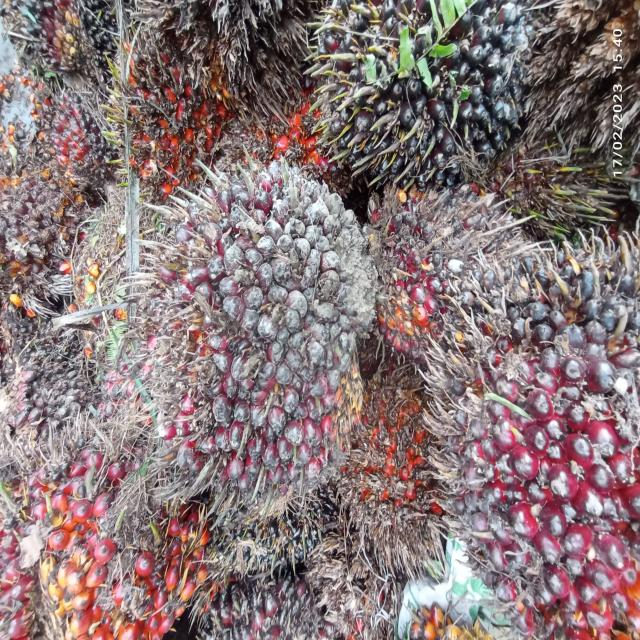fraksi 00: (294, 0, 539, 174), (1, 296, 108, 436)
fraksi 1: (110, 160, 378, 500), (435, 217, 640, 640), (346, 167, 469, 383)
fraksi 4: (7, 415, 227, 640), (85, 37, 256, 184), (345, 368, 436, 540), (214, 74, 349, 168)
